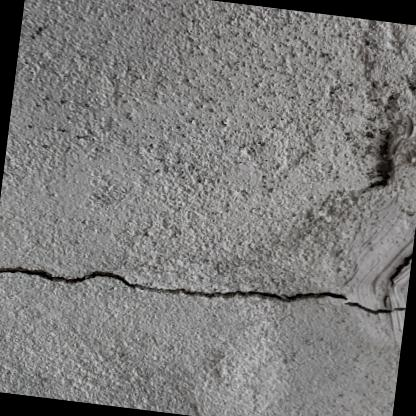crack: (0, 265, 405, 313)
